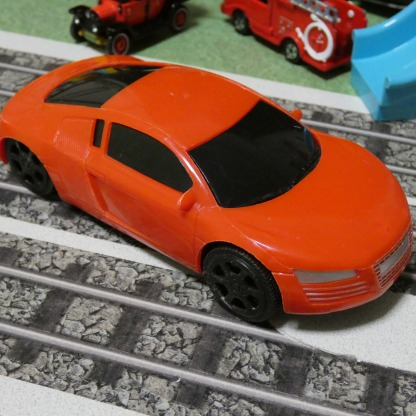car: (0, 54, 410, 336), (217, 0, 374, 71), (68, 0, 190, 55)
